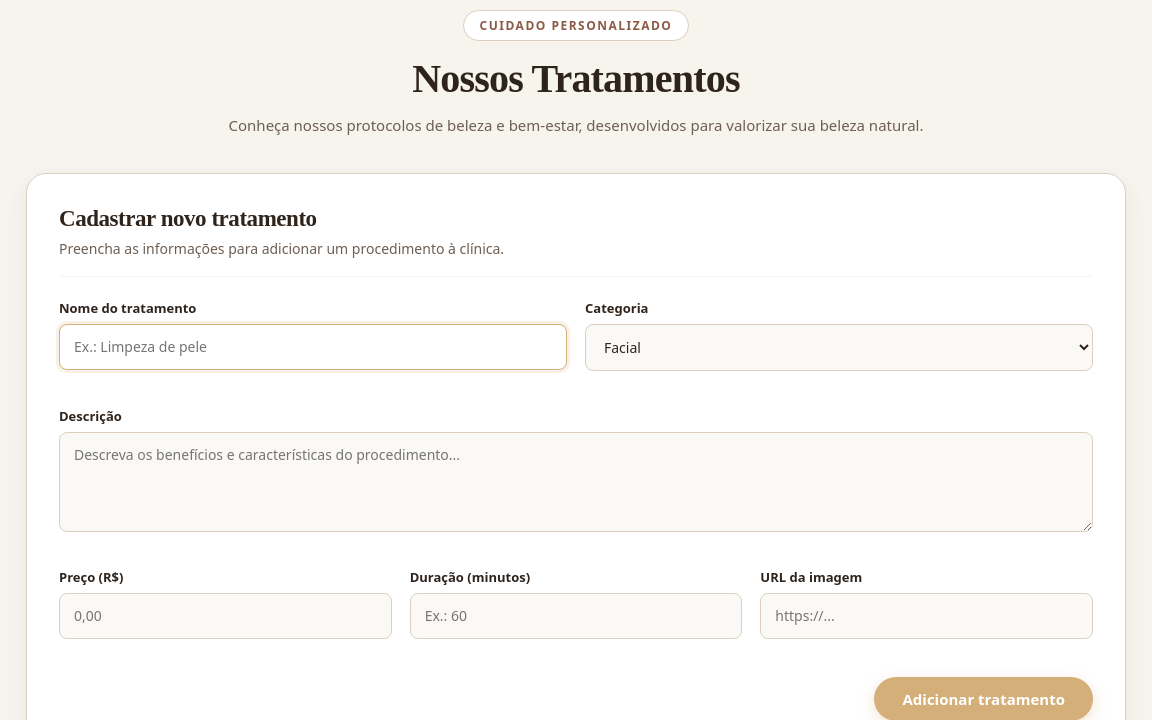
Test: Cadastro de tratamento › não cadastra um tratamento com campos obrigatórios vazios
Click the button "Adicionar tratamento" at (984, 699), box [874,677,1093,719]
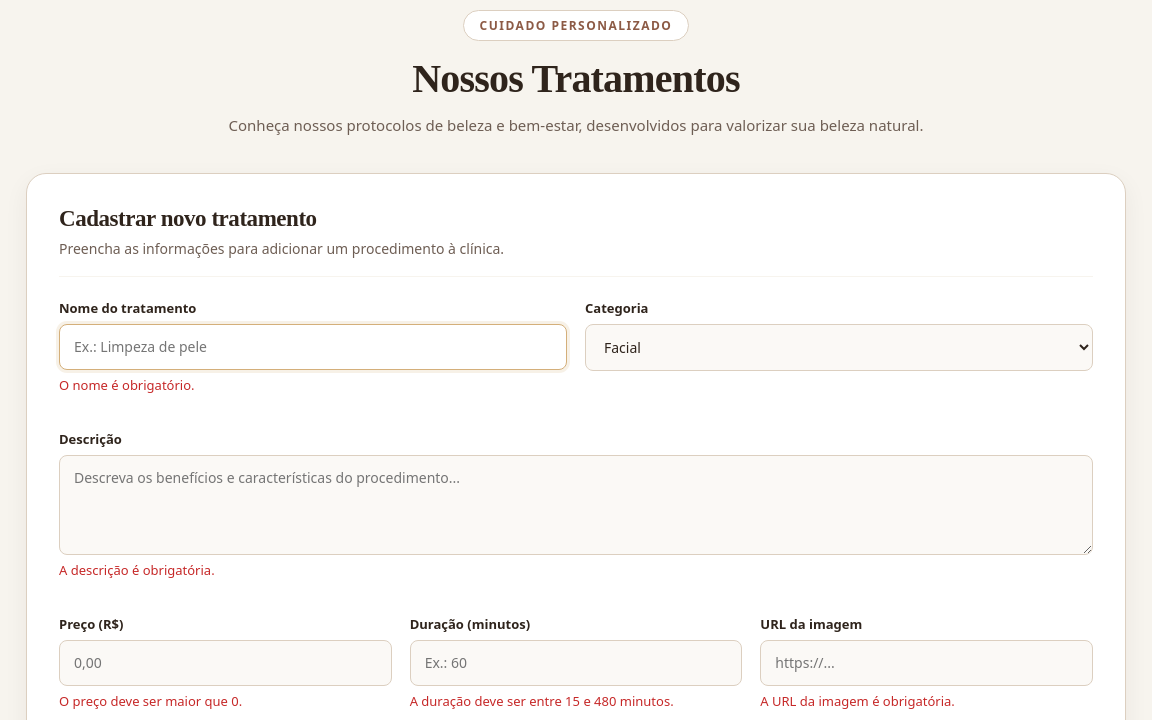
expect the text "O nome é obrigatório." is shown: met, box [59,376,194,394]
expect the text "A descrição é obrigatória." is shown: met, box [59,561,215,579]
